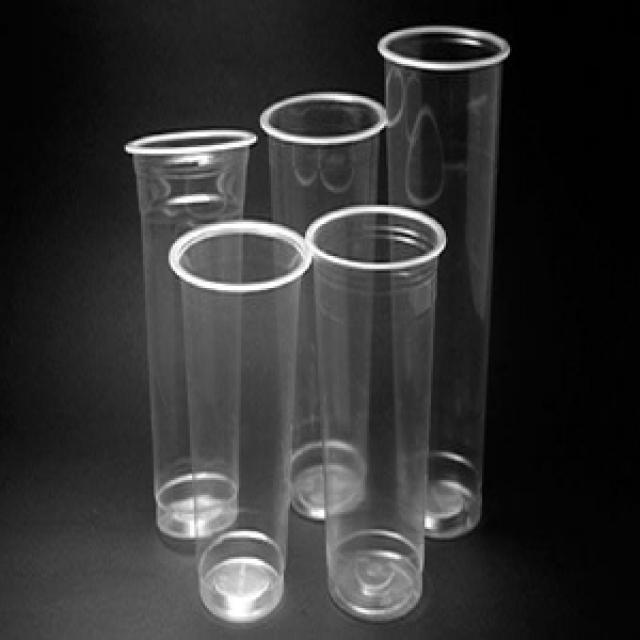plastic cup: (373, 21, 514, 544), (305, 200, 452, 630), (164, 216, 314, 627), (122, 124, 260, 550), (260, 85, 390, 529)
